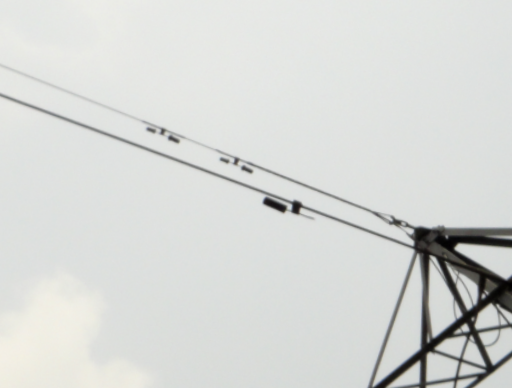damper: (218, 153, 254, 174), (145, 124, 181, 144)
damper_defect: (259, 193, 318, 221)
